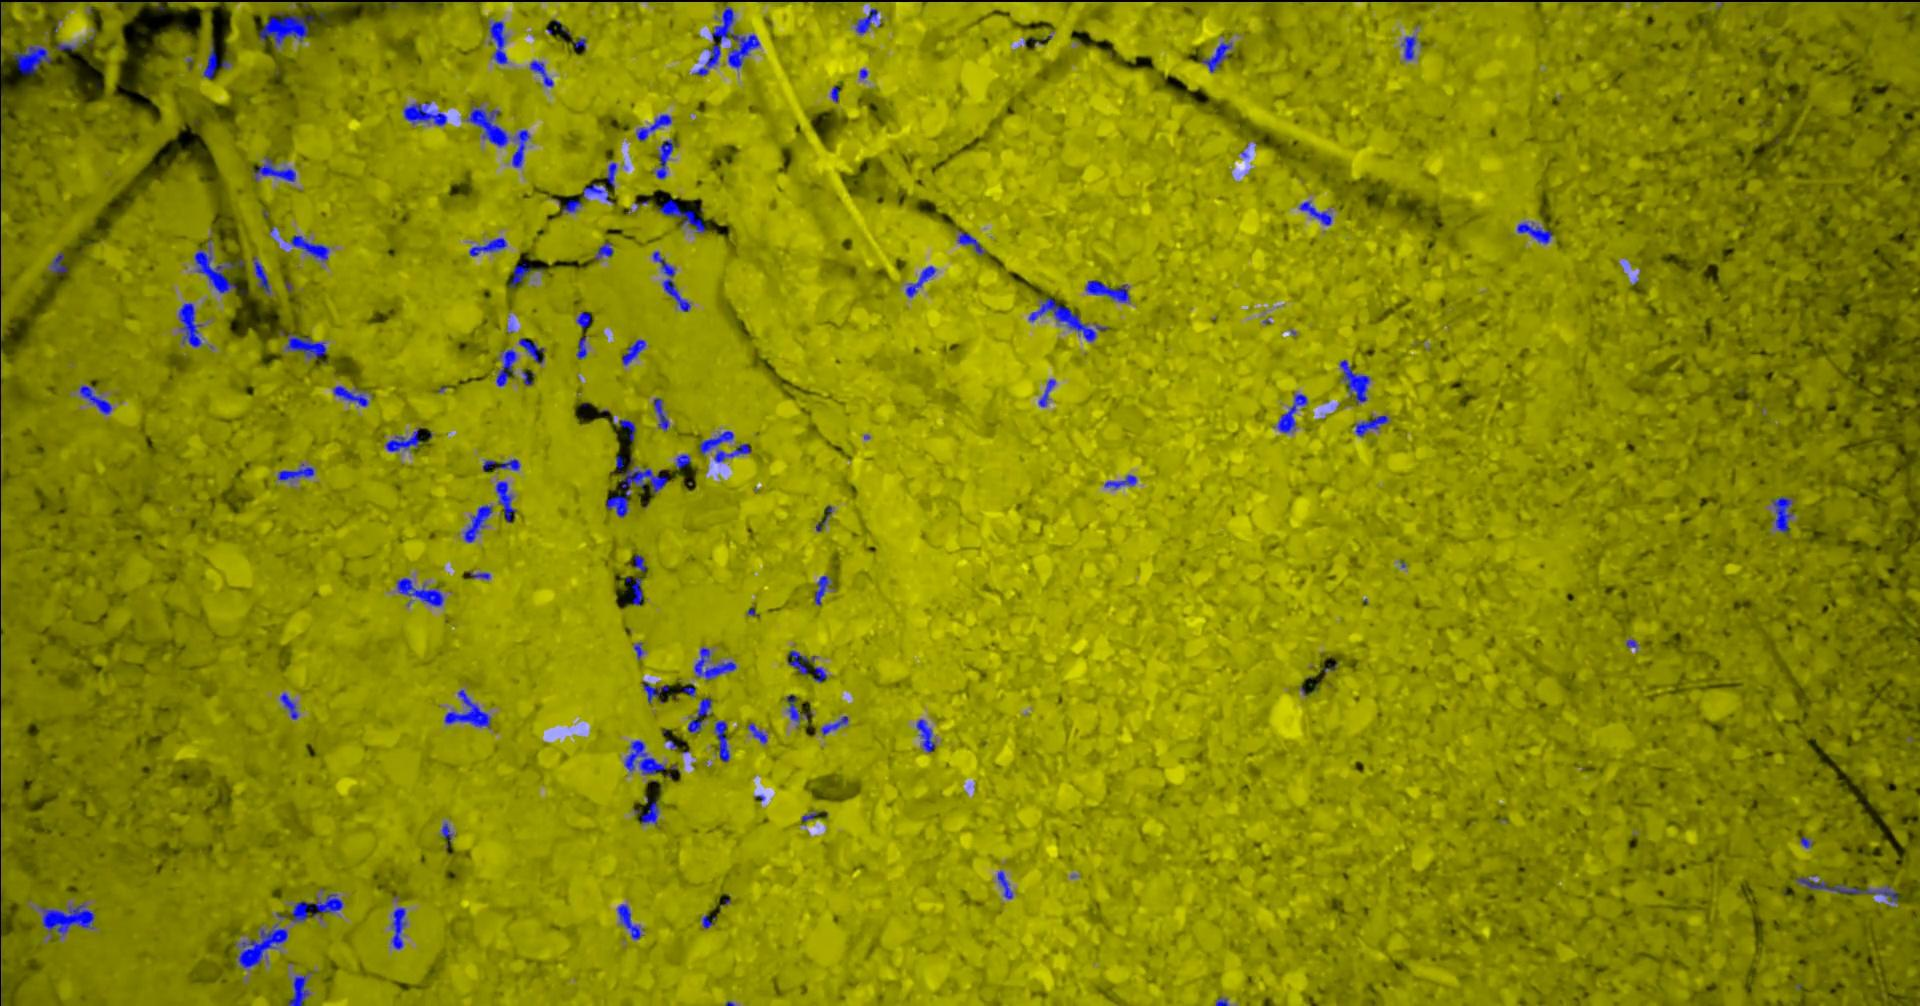ant: (604, 455, 667, 516), (1029, 298, 1107, 340), (1796, 876, 1897, 904), (193, 239, 244, 293), (651, 251, 690, 311), (236, 923, 287, 968), (259, 11, 314, 47), (466, 104, 508, 146), (444, 688, 490, 727), (38, 903, 94, 934), (655, 198, 705, 232), (290, 893, 342, 922), (395, 577, 443, 606), (693, 647, 735, 680), (623, 741, 665, 774), (8, 43, 51, 75), (1338, 359, 1370, 401), (582, 163, 616, 201), (1276, 392, 1307, 432), (251, 155, 295, 180), (178, 302, 202, 347), (463, 504, 491, 542), (203, 39, 230, 79), (290, 234, 328, 260), (1084, 279, 1129, 302), (284, 333, 326, 357), (651, 138, 677, 178), (403, 102, 446, 124), (79, 384, 110, 414), (635, 114, 670, 141), (1200, 42, 1230, 72), (905, 265, 935, 297), (616, 904, 643, 939), (1298, 199, 1331, 225), (687, 697, 711, 732), (495, 481, 516, 522), (488, 20, 507, 64), (632, 795, 659, 826), (331, 385, 368, 406), (1771, 495, 1793, 532), (385, 428, 419, 451), (698, 431, 733, 453), (956, 229, 985, 255), (495, 349, 516, 386), (1354, 414, 1388, 436), (1516, 222, 1552, 243), (510, 130, 530, 166), (251, 257, 270, 293), (714, 443, 750, 462), (518, 337, 543, 363), (786, 695, 811, 721), (787, 650, 815, 674), (712, 720, 729, 761), (287, 974, 309, 1005), (469, 238, 505, 255), (390, 907, 405, 949), (621, 339, 645, 365), (855, 8, 877, 34), (530, 60, 552, 86), (277, 464, 314, 480), (916, 719, 935, 751), (643, 680, 668, 702), (820, 715, 848, 735), (508, 262, 531, 286), (625, 575, 643, 605), (279, 692, 298, 719), (653, 398, 668, 431), (1037, 379, 1055, 406), (813, 575, 829, 605), (483, 459, 519, 471), (1103, 474, 1137, 488), (747, 721, 767, 743), (997, 870, 1012, 898), (815, 506, 830, 531), (50, 251, 67, 273), (1401, 36, 1416, 60), (618, 419, 635, 441), (593, 243, 613, 259), (561, 199, 582, 213), (575, 311, 590, 328), (632, 554, 646, 572), (441, 822, 452, 843), (575, 335, 585, 358), (674, 453, 690, 467), (811, 667, 825, 682), (701, 915, 715, 929), (632, 641, 643, 659), (681, 683, 695, 696), (55, 42, 77, 50), (522, 370, 533, 385), (469, 572, 490, 579), (571, 38, 585, 50)
